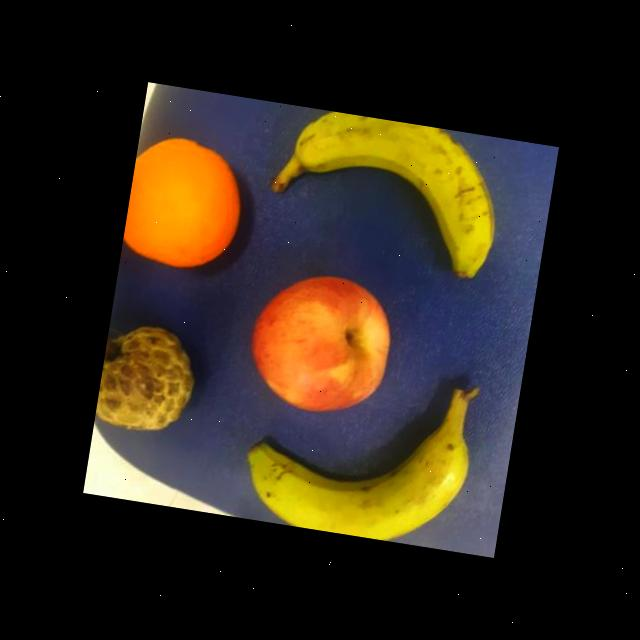Sakya fruit: (92, 320, 190, 446)
apple: (239, 264, 402, 427)
banana: (274, 106, 513, 293), (233, 393, 478, 552)
orange: (120, 128, 253, 276)
